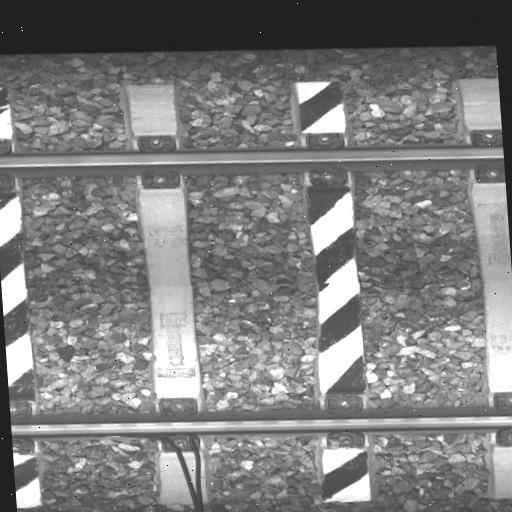sleeper: (291, 76, 374, 504), (132, 80, 205, 507), (464, 75, 512, 499), (0, 84, 38, 509)
